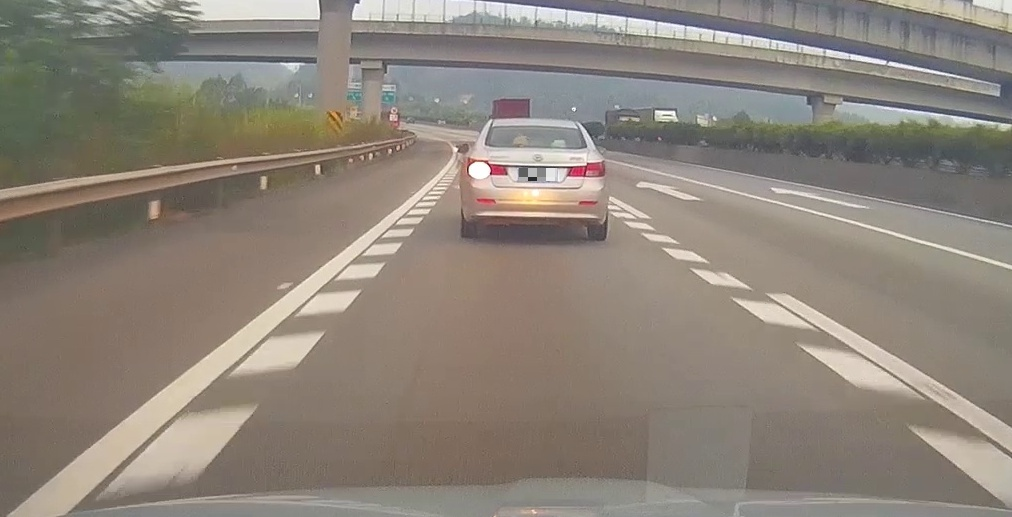L_light: (467, 157, 507, 176)
R_light: (568, 161, 605, 177)
T_light: (528, 127, 546, 130)
day-left: (460, 120, 607, 241)
plate_1: (519, 168, 557, 181)
